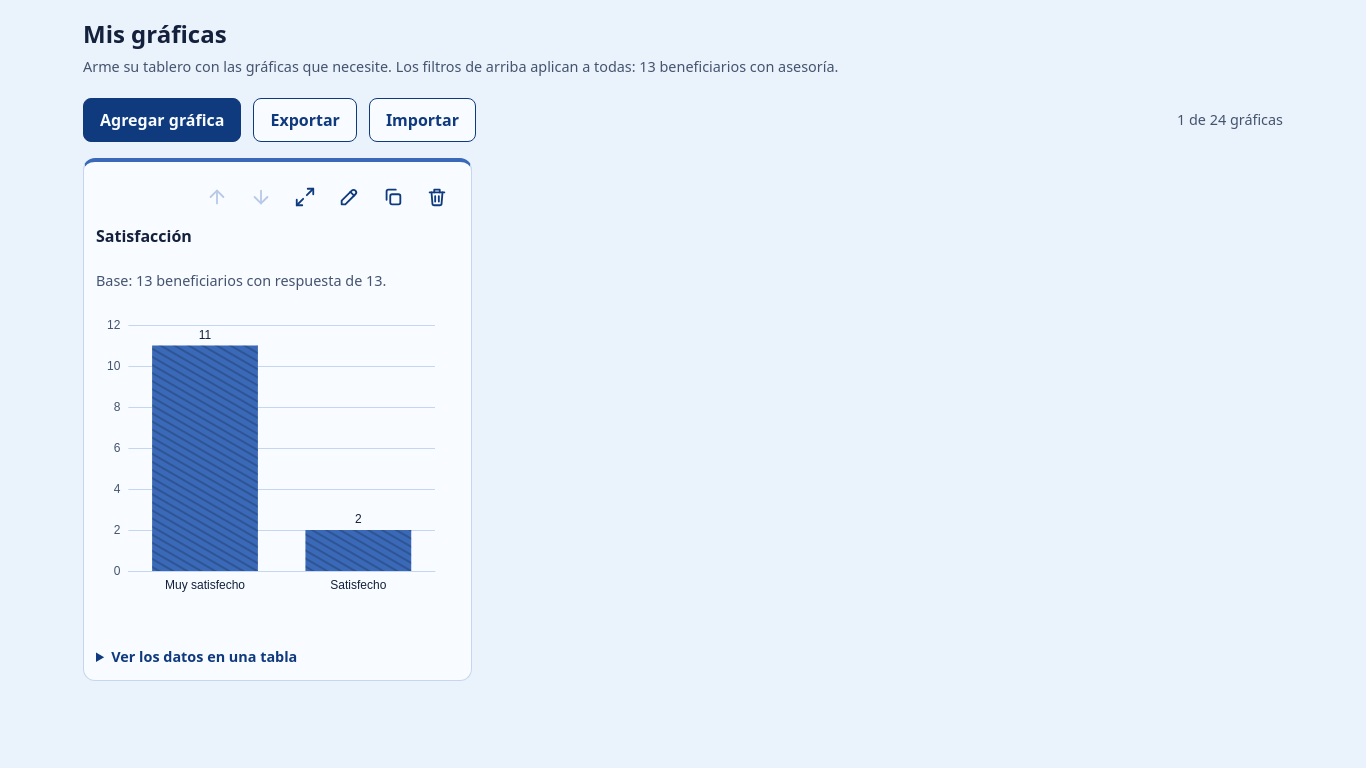
Test: PaginaGraficas: constructor en el panel › comparar por otro campo agrupa y muestra las cifras reales, también las de menos de 5
Click the button named "Editar: Satisfacción" at (349,196), box [327,174,371,218]
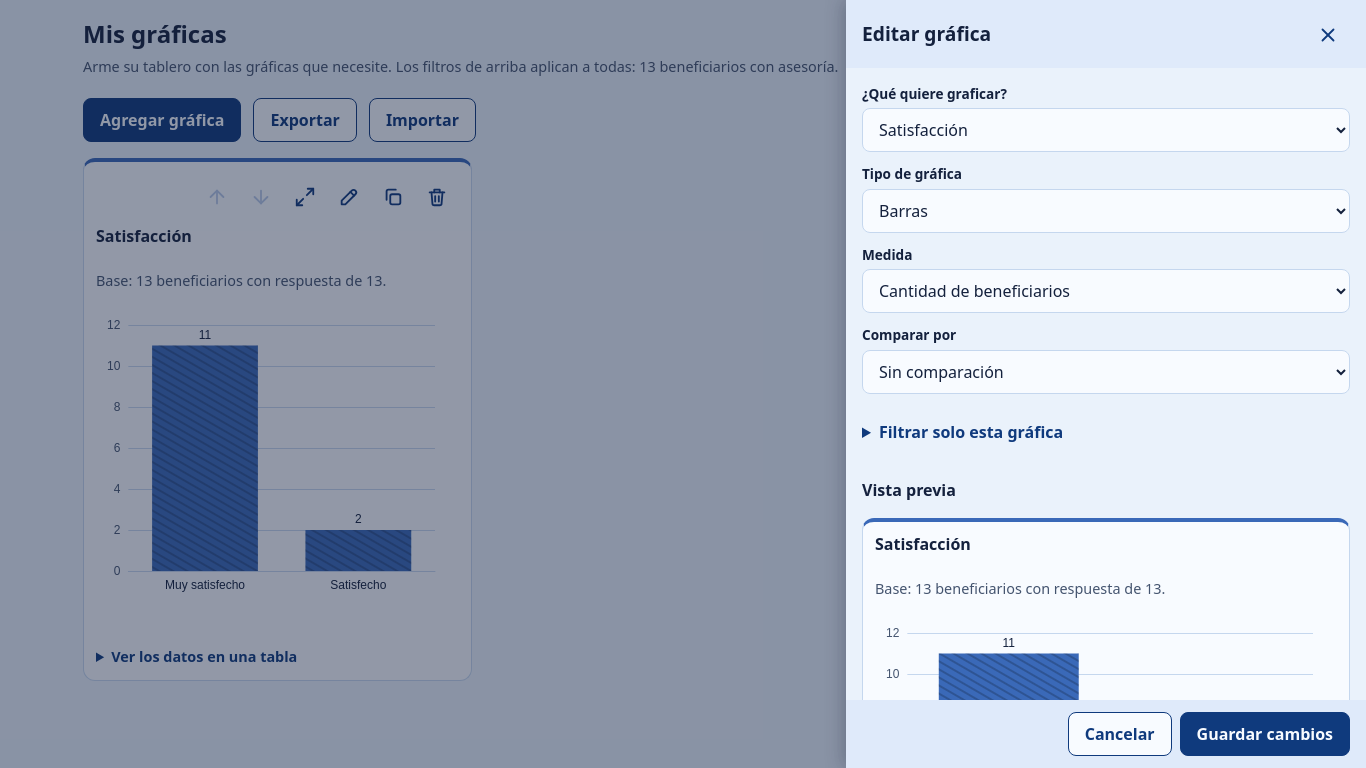
Select "Convocatoria" in the dropdown labelled "Comparar por" at (1106,372), box [862,350,1350,394]
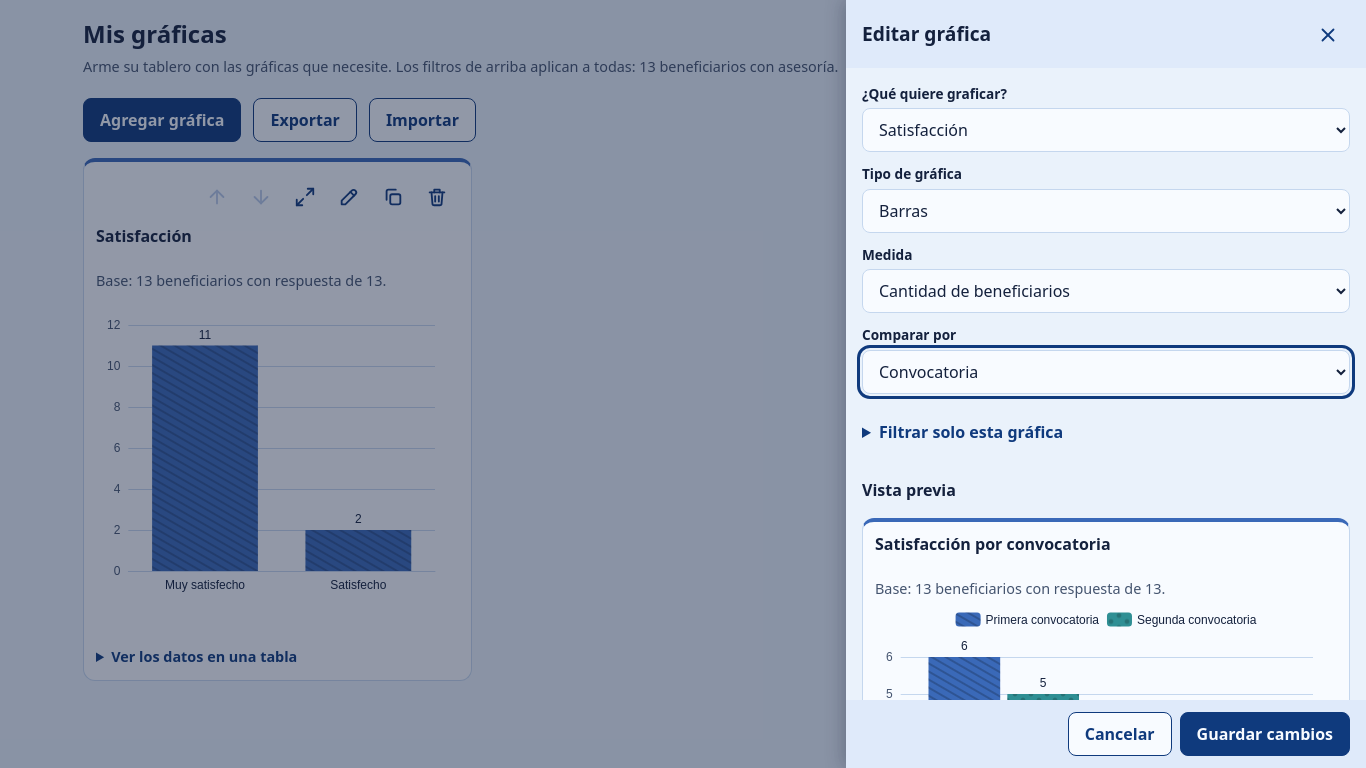
Expected: the heading "Satisfacción por convocatoria" is shown, [875,533,1111,555]
